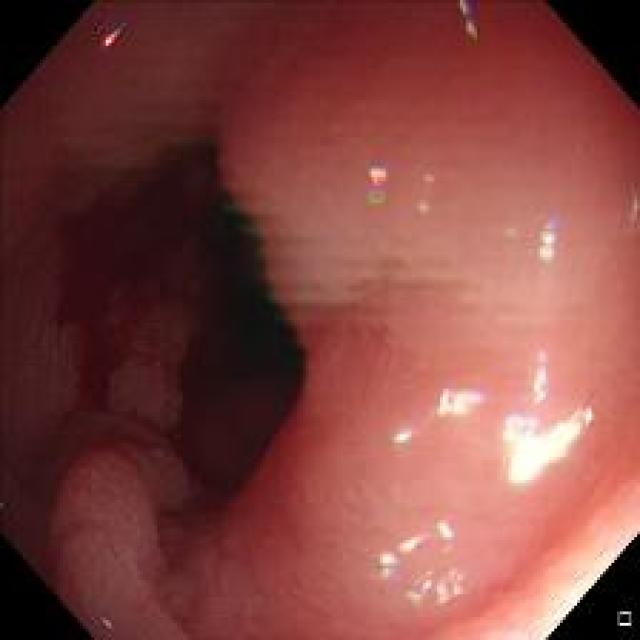blood: (48, 148, 191, 416), (170, 242, 306, 496)
color misalignment: (375, 519, 468, 604), (216, 175, 262, 239), (259, 258, 296, 335), (364, 156, 391, 208), (450, 0, 485, 39), (92, 18, 134, 48), (415, 171, 435, 218), (624, 184, 639, 240), (440, 384, 484, 402), (540, 215, 562, 248), (540, 350, 551, 398), (402, 425, 421, 446)
contrast: (68, 132, 310, 505)
saturation: (501, 504, 632, 636)
specularity: (496, 409, 589, 488), (424, 376, 485, 419), (525, 349, 562, 404), (538, 211, 561, 271), (385, 421, 421, 455)
